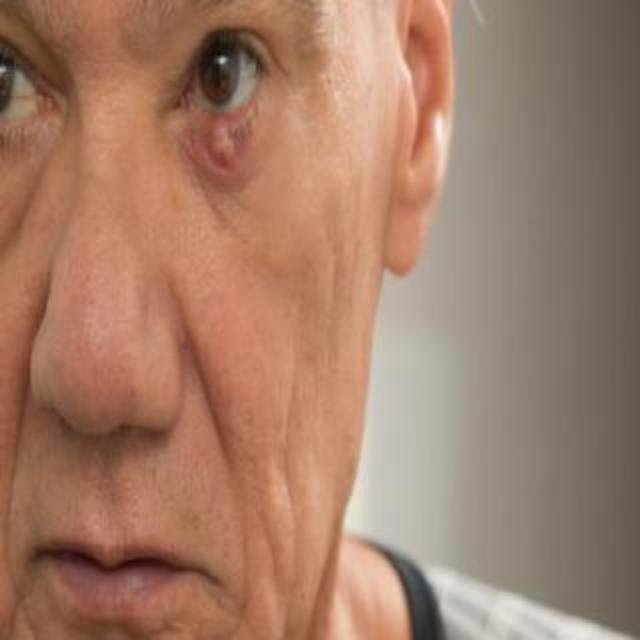Stye: (176, 100, 272, 173)
